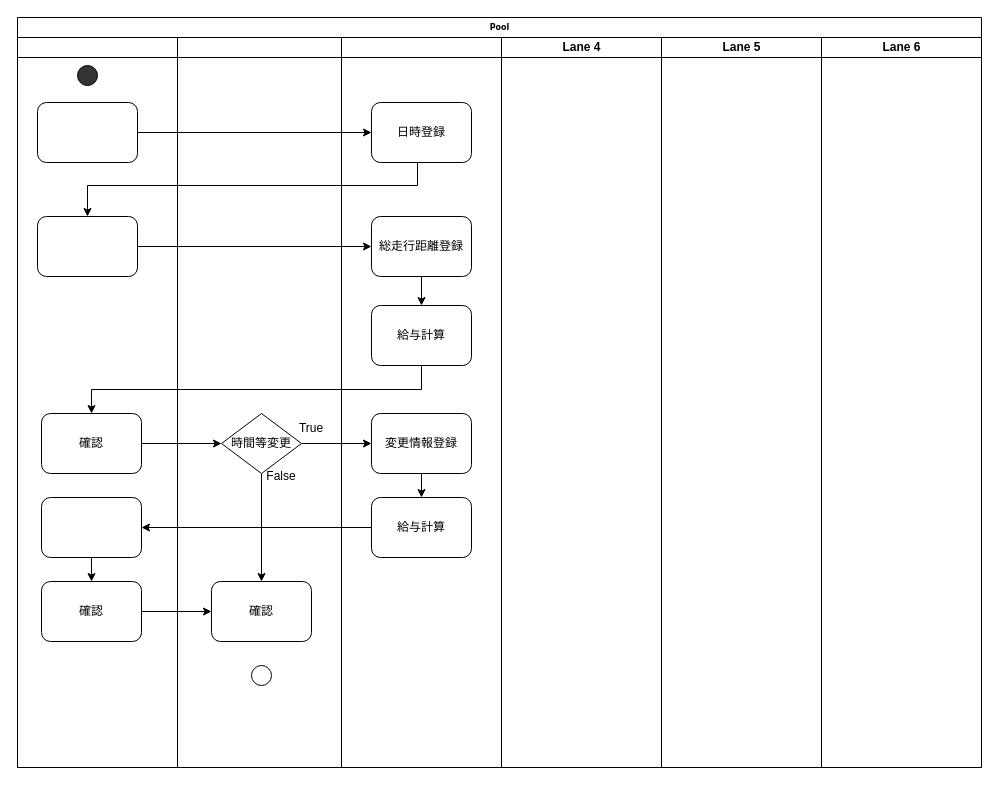
Some shapes in this 999 by 785 pixel diagram are drawn without their labels. The box of each missing label's shape, as (x1, y1, x2, y2) in pixels:
Owner: (176, 36, 342, 768)
Staff: (16, 36, 178, 768)
システム: (340, 36, 502, 768)
打刻: (36, 102, 138, 162)
総走行距離入力: (36, 216, 138, 276)
通知: (40, 496, 142, 558)
